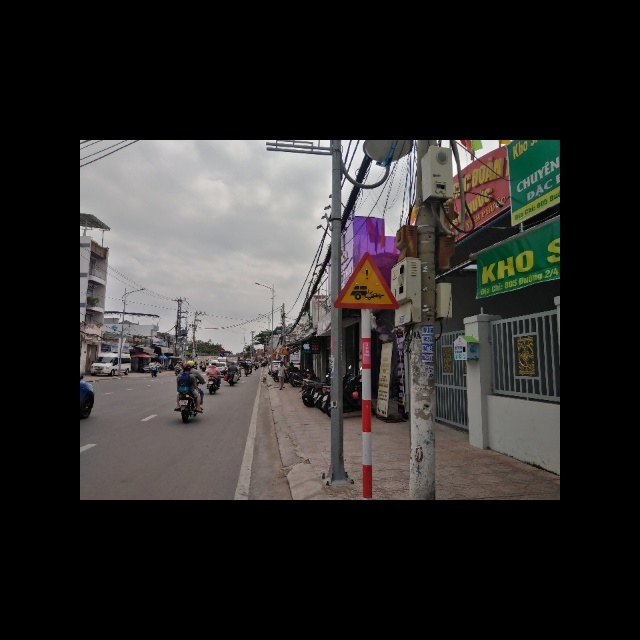Đoạn đường hay xảy ra tai nạn: (330, 252, 400, 308)
Đường đôi: (277, 345, 290, 355)
